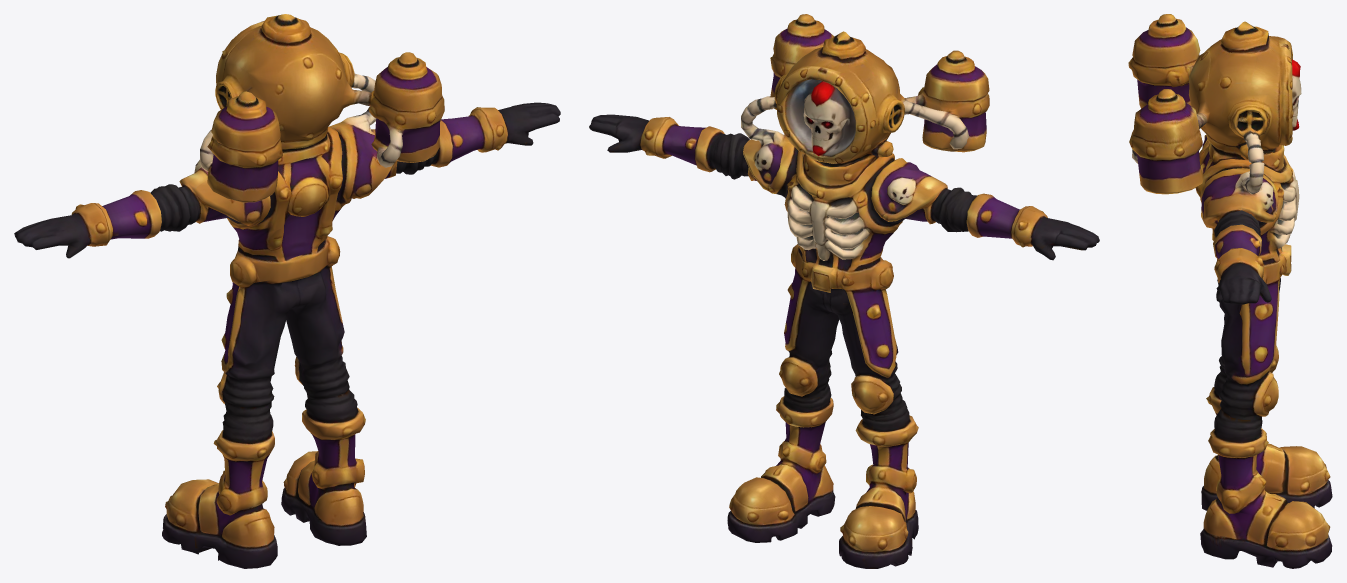
File: bob-diver.glb
The picture shows the model from 3 angles, left to right: view 1: azimuth 30°, elevation 25°; view 2: azimuth 150°, elevation 25°; view 3: azimuth 270°, elevation 25°; orthographic projection. The views are drawn at different scales.
Parts seen in each view (by area): view 1: model; view 2: model; view 3: model.
Part boxes in pixels (x1,y1,x2,y2): model: [14, 14, 560, 568]; model: [589, 14, 1099, 568]; model: [1128, 14, 1332, 568].
Bounding box in the file's own units: 1 × 0.9333 × 0.342.
1 material, 1 textured.
